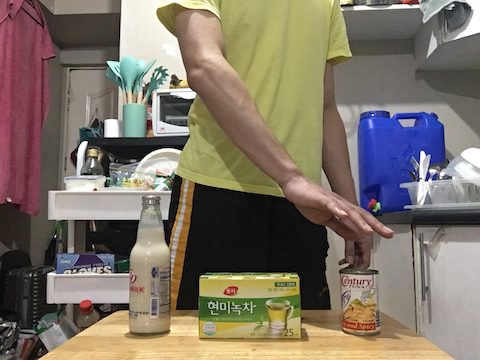bottle: (125, 191, 176, 338)
box: (194, 268, 307, 344)
can: (339, 266, 383, 339)
